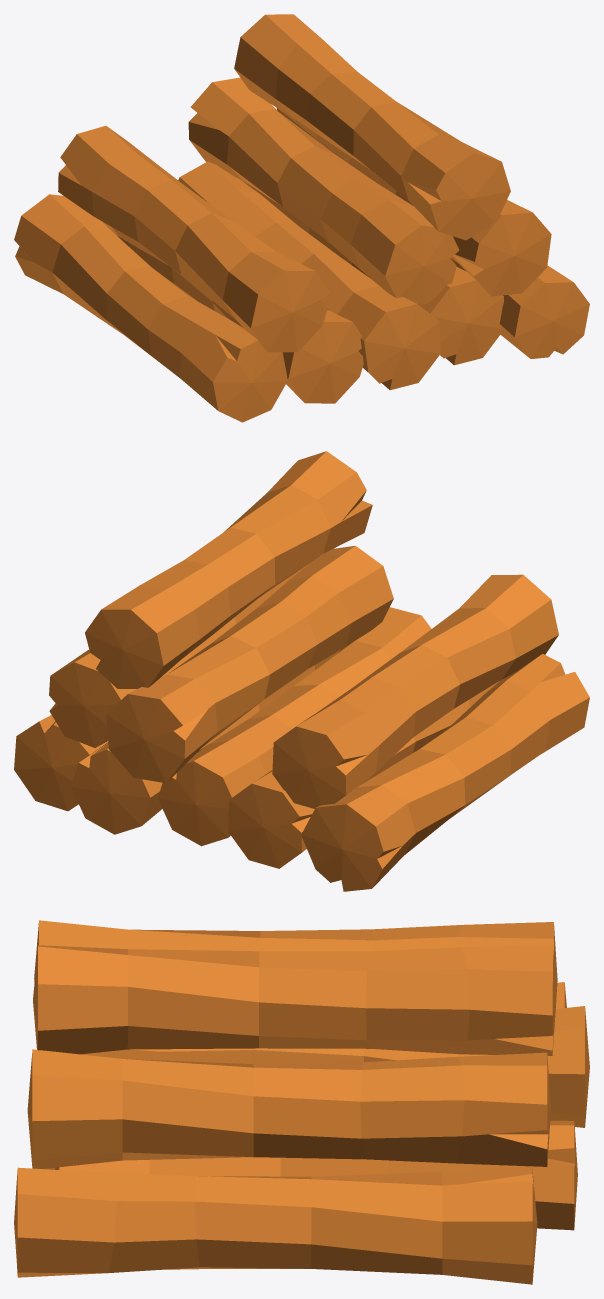
File: wood 1.fbx
3 renders of one model, top to bottom at view 1: azimuth 30°, elevation 25°; view 2: azimuth 150°, elevation 25°; view 3: azimuth 270°, elevation 25°, orthographic. The views are drawn at different scales.
Visible parts, largest first — view 1: 圓柱體.008; view 2: 圓柱體.008; view 3: 圓柱體.008.
Boxes of the visible parts, <box> form: 圓柱體.008: <box>14,14,589,422</box>; 圓柱體.008: <box>14,451,589,891</box>; 圓柱體.008: <box>14,920,589,1284</box>.
Bounding box in the file's own units: 894 × 513 × 937.
